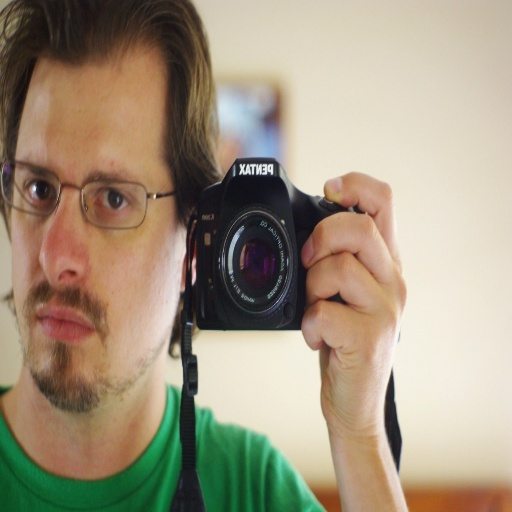hand: (295, 159, 412, 493)
